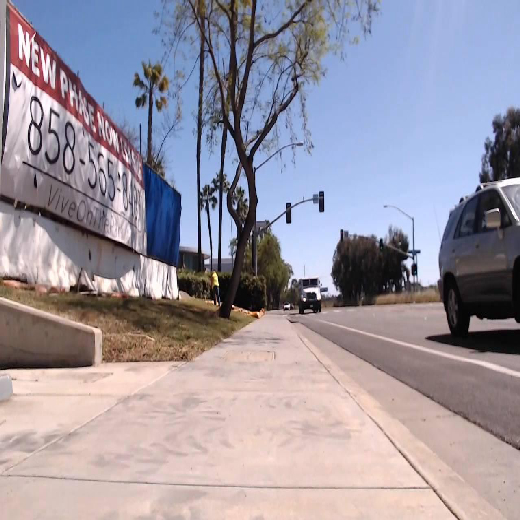vehicle: (438, 177, 520, 340), (296, 271, 322, 314)
